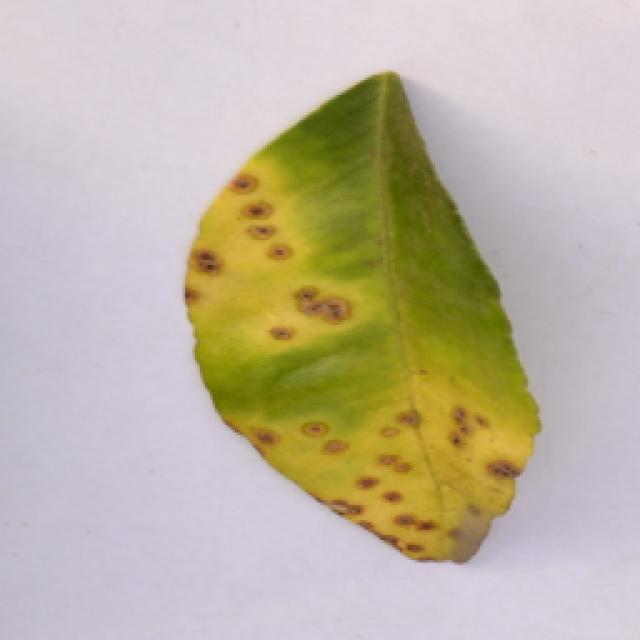canker: (192, 58, 528, 567)
